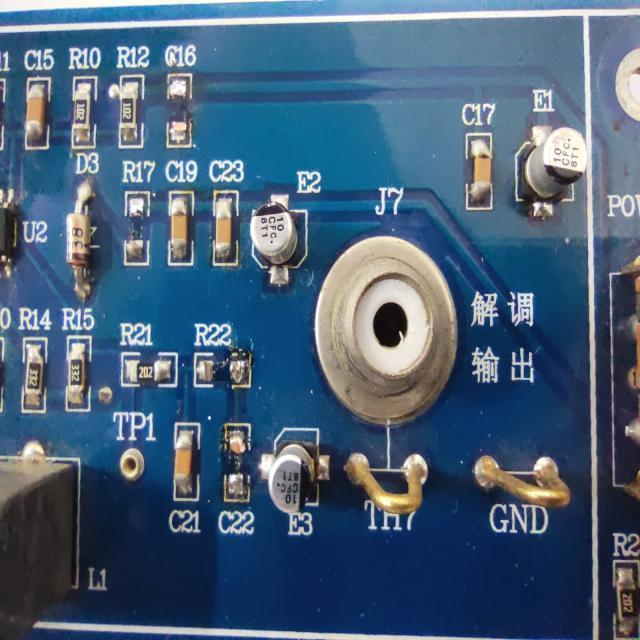Missing component: (216, 422, 258, 542), (191, 322, 256, 393), (121, 158, 157, 270), (164, 40, 198, 151)
